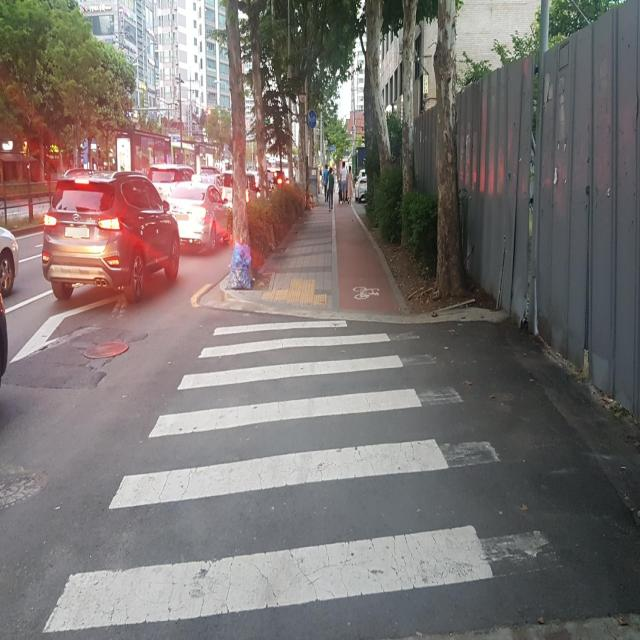횡단보도: (39, 314, 496, 635)
